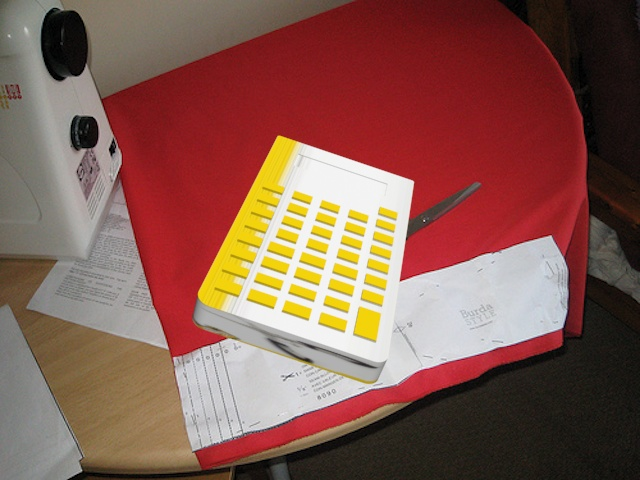calculator: (192, 128, 416, 388)
